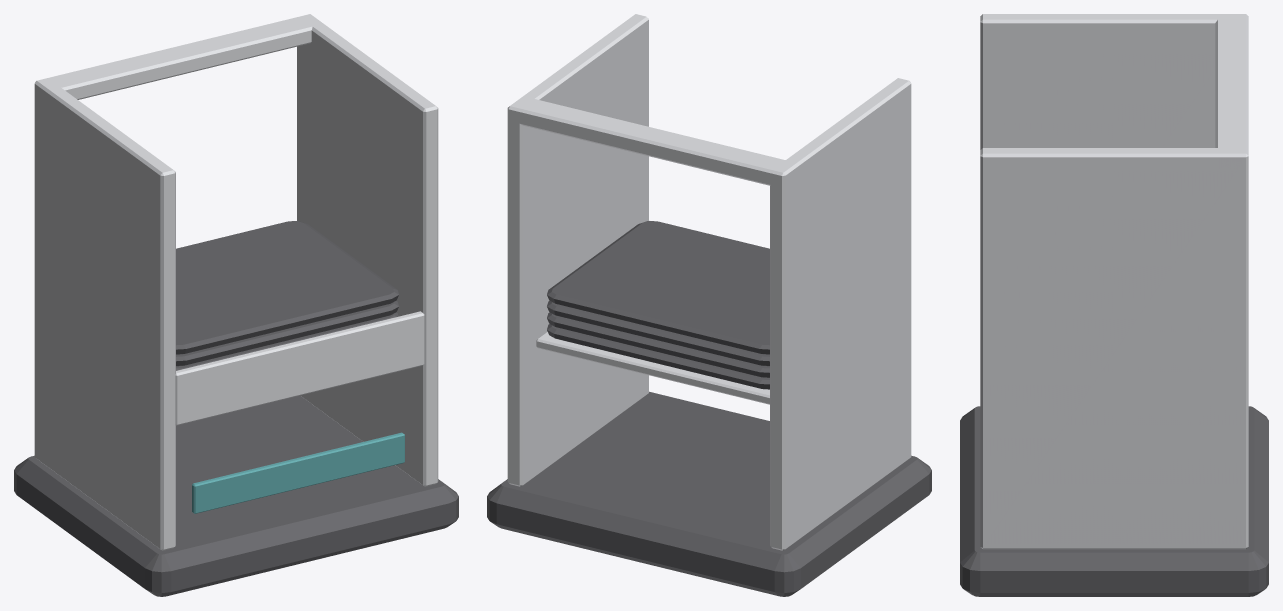
File: fast-food-and-drive-thru-tray-stack-dispenser-7d0b7af5__16120.glb
3 renders of one model, left to right at view 1: azimuth 30°, elevation 25°; view 2: azimuth 150°, elevation 25°; view 3: azimuth 270°, elevation 25°, orthographic. The views are drawn at different scales.
Visible parts, largest first — view 1: tray-stack-dispenser; view 2: tray-stack-dispenser; view 3: tray-stack-dispenser.
Boxes of the visible parts, x1,y1,x2,y2 form: tray-stack-dispenser: (14,14,458,596); tray-stack-dispenser: (487,14,931,596); tray-stack-dispenser: (960,14,1268,596).
Size of the model in its own units: 0.56 by 0.72 by 0.46.
